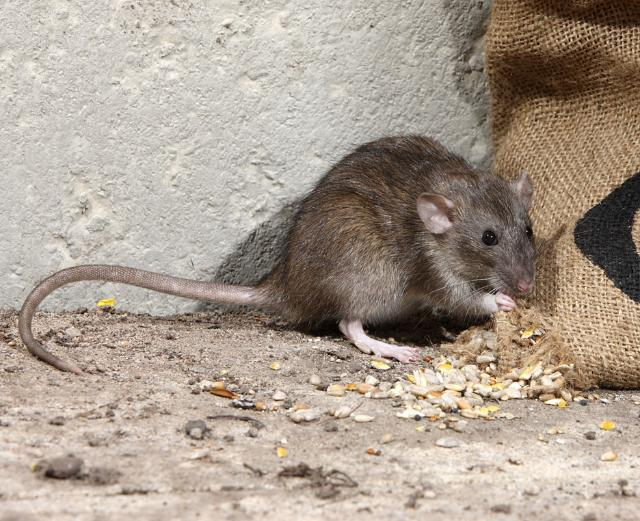rat: (162, 123, 552, 369)
